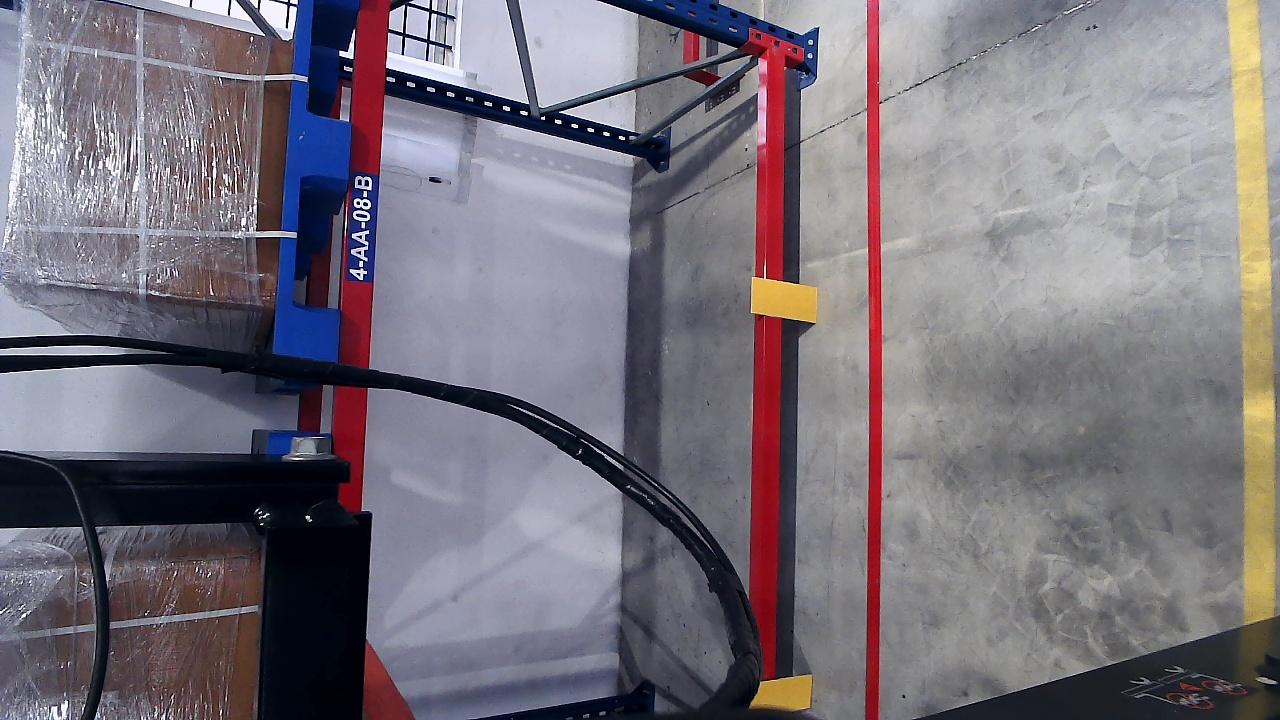h_rack: (332, 0, 393, 484), (755, 35, 791, 632)
orange_strip: (751, 276, 817, 321), (750, 673, 814, 709)
red_line: (858, 2, 889, 720)
small_pallet: (267, 1, 361, 365)
yellow_line: (1231, 0, 1278, 616)
